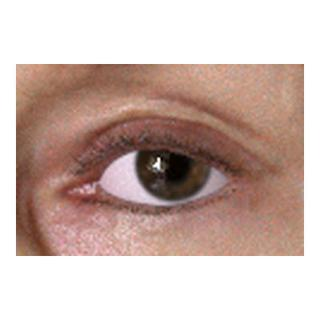pupil: (157, 147, 189, 179)
